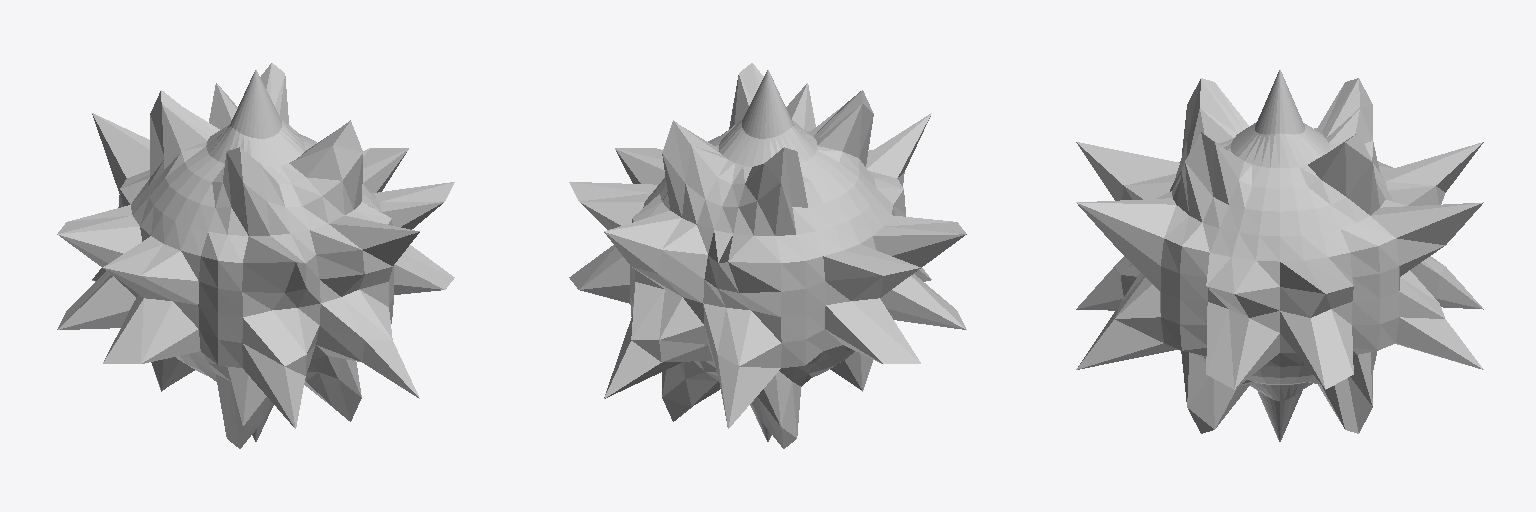
The model's file is virus.obj.
3 renders of one model, left to right at view 1: azimuth 30°, elevation 25°; view 2: azimuth 150°, elevation 25°; view 3: azimuth 270°, elevation 25°, orthographic.
Parts seen in each view (by area): view 1: Sphere; view 2: Sphere; view 3: Sphere.
Boxes of the visible parts, <box> form: Sphere: <box>57,63,454,448</box>; Sphere: <box>569,63,966,448</box>; Sphere: <box>1076,70,1483,441</box>.
Size of the model in its own units: 3.14 by 3.19 by 3.15.